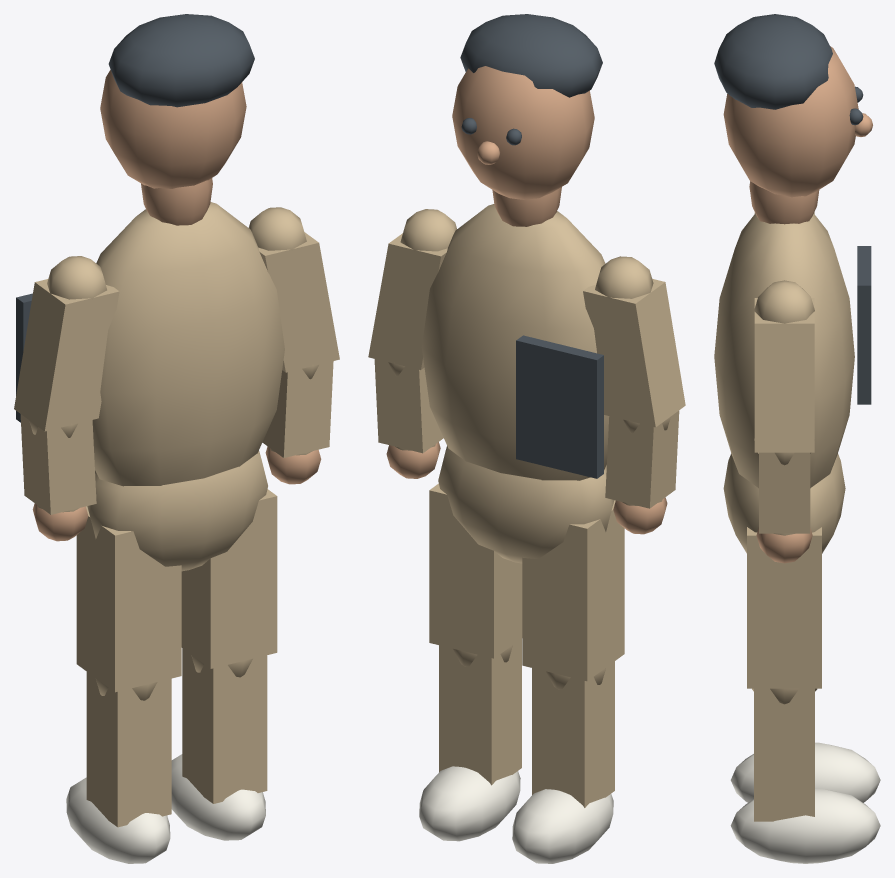
Rendered from person-pemda-stand.glb.
3 renders of one model, left to right at view 1: azimuth 30°, elevation 25°; view 2: azimuth 150°, elevation 25°; view 3: azimuth 270°, elevation 25°, orthographic. The views are drawn at different scales.
Visible parts, largest first — view 1: person-pemda-stand; view 2: person-pemda-stand; view 3: person-pemda-stand.
Part boxes in pixels (x1,y1,x2,y2): person-pemda-stand: (14, 14, 339, 863); person-pemda-stand: (368, 14, 685, 863); person-pemda-stand: (714, 14, 880, 863).
Size of the model in its own units: 0.71 by 1.91 by 0.355.
